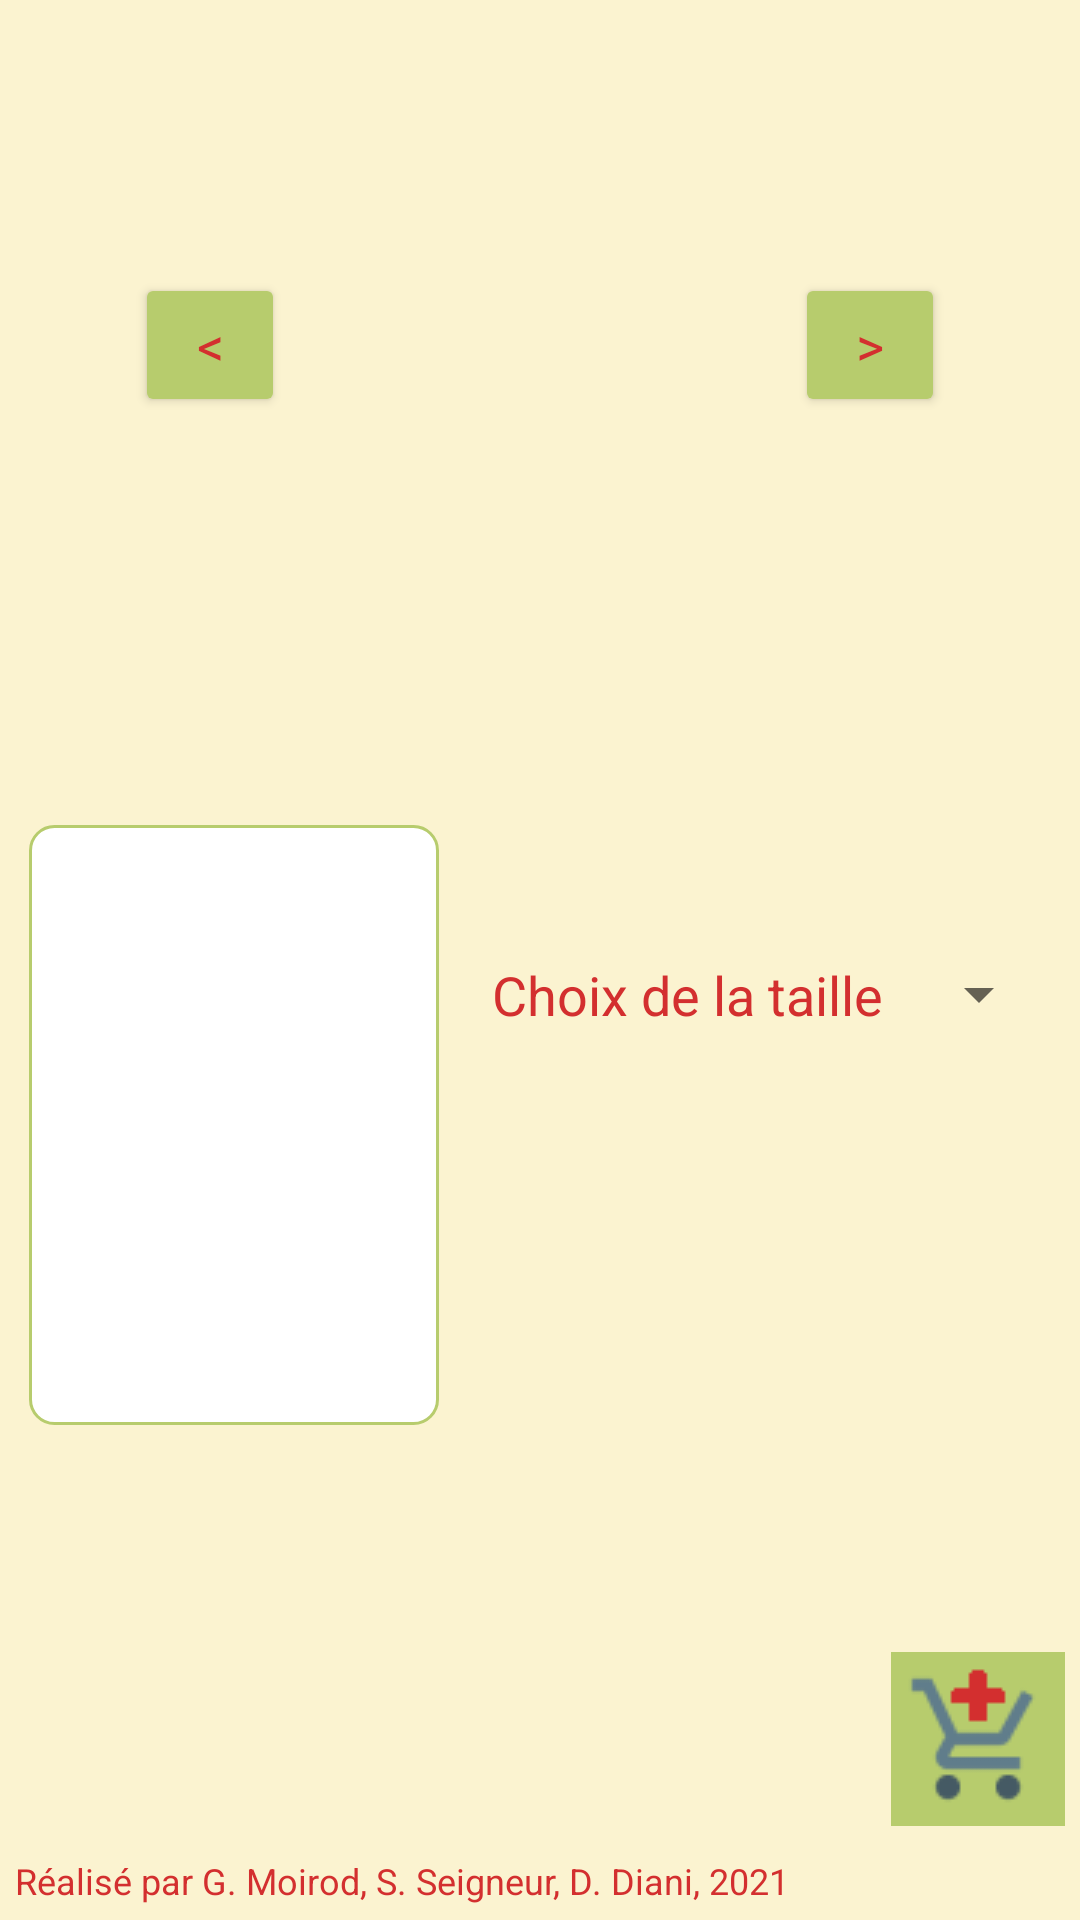

Locate icon controls on the screen. Image size 1080px x 1920px, boxes as (x1, y1, x2, y2).
basket ajout: (891, 1652, 1065, 1826)
